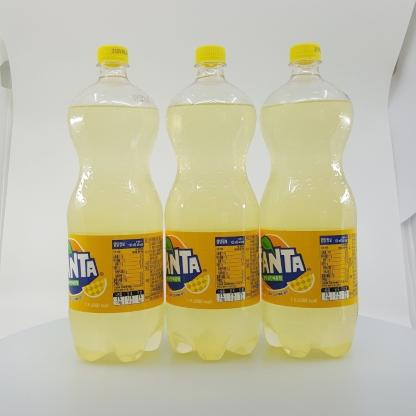--------1-5L: (67, 45, 165, 362), (260, 43, 357, 358), (164, 45, 260, 360)
